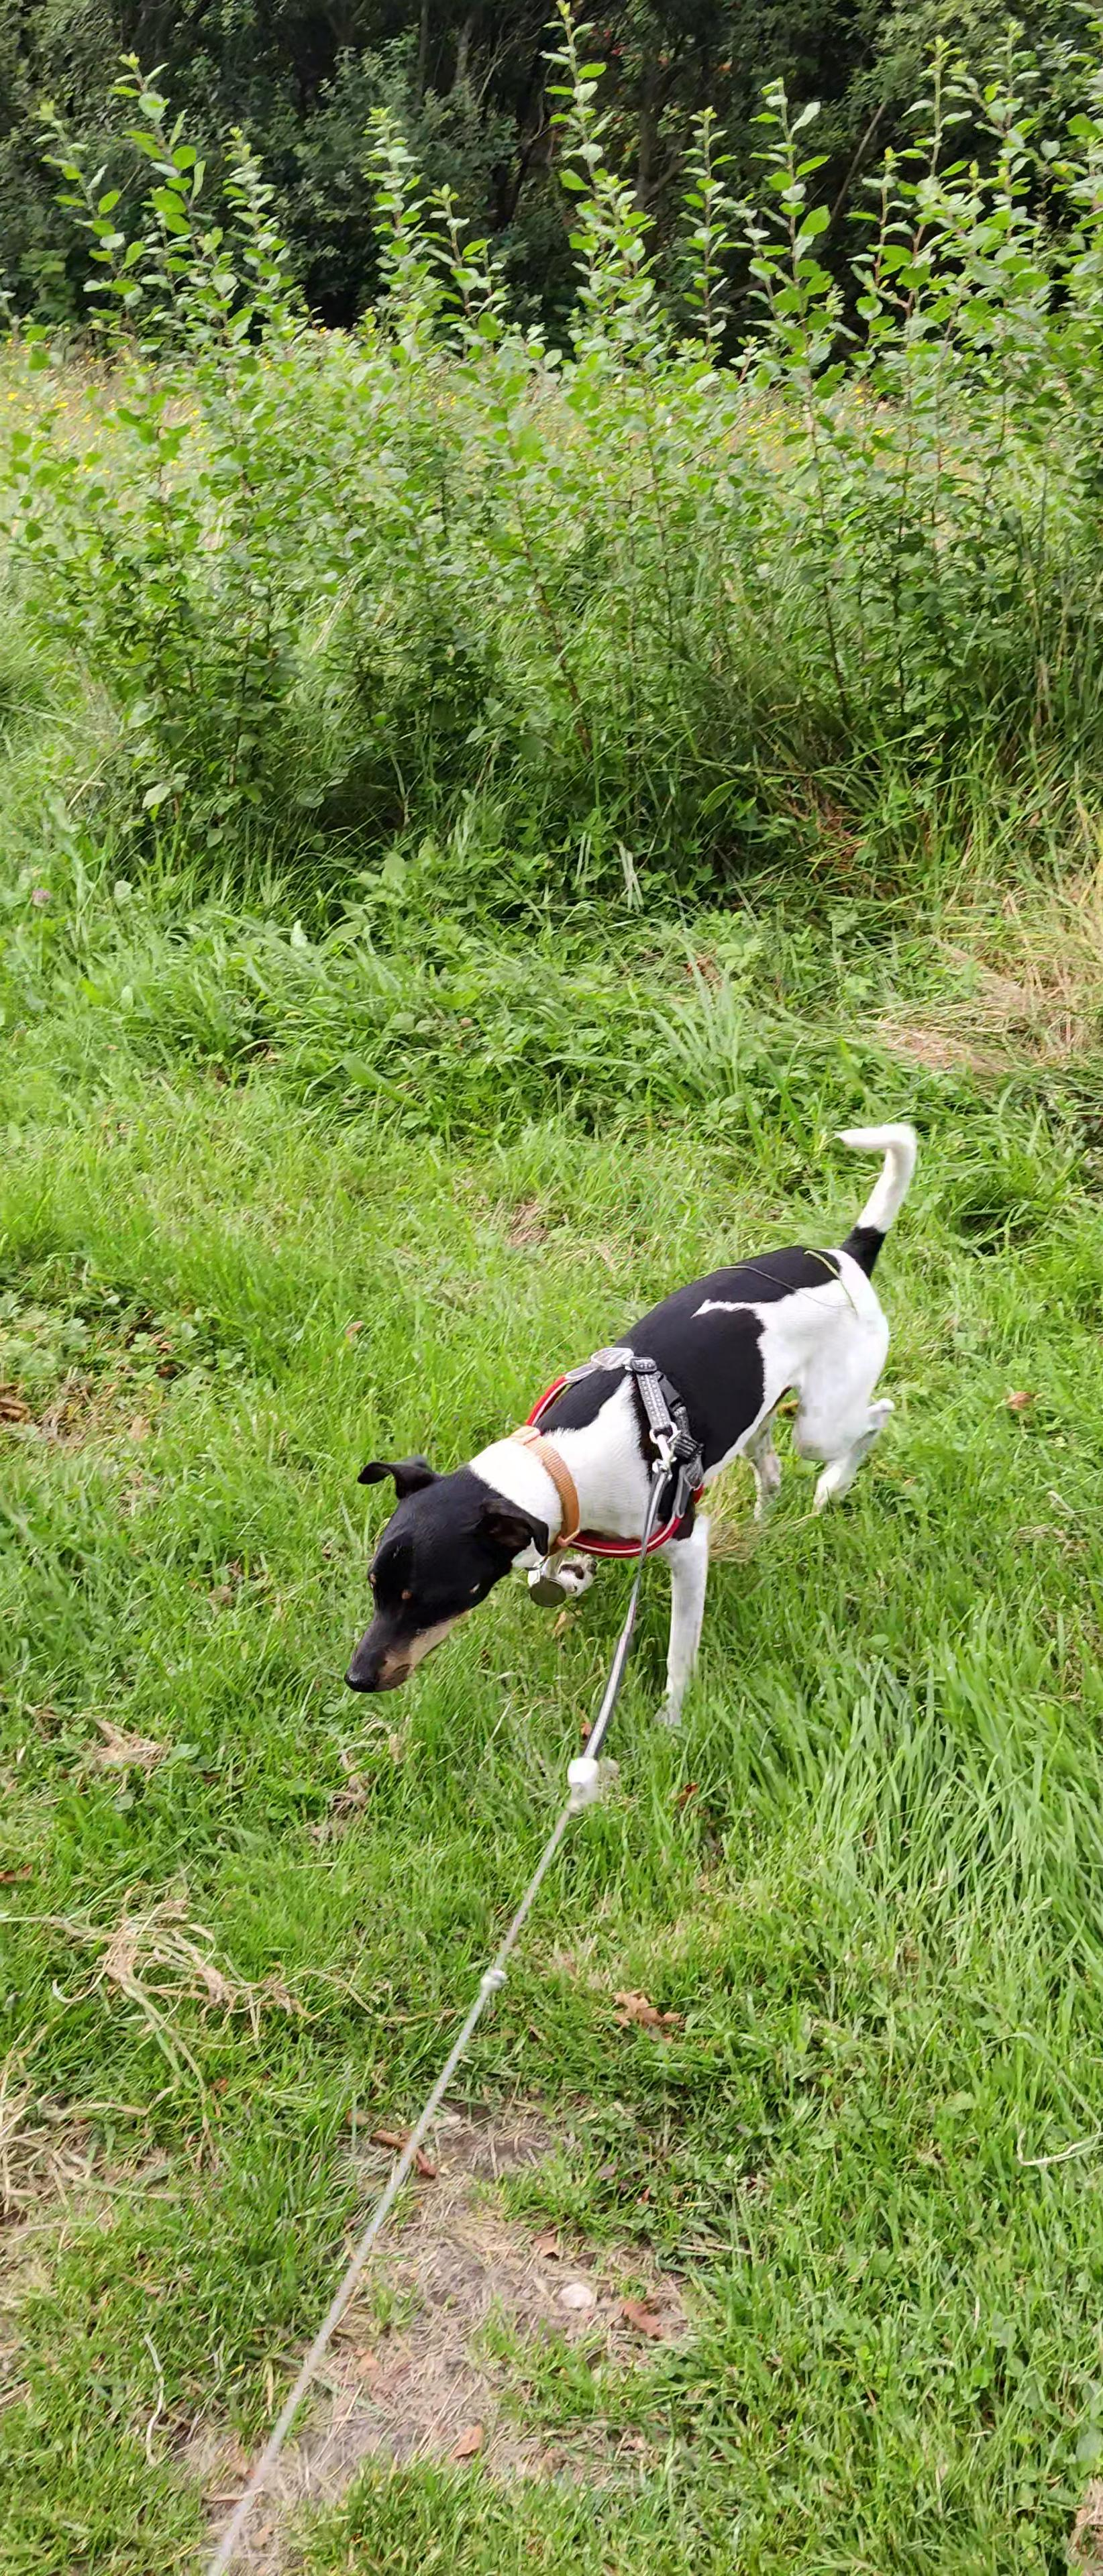Dog: (335, 1115, 927, 1738)
